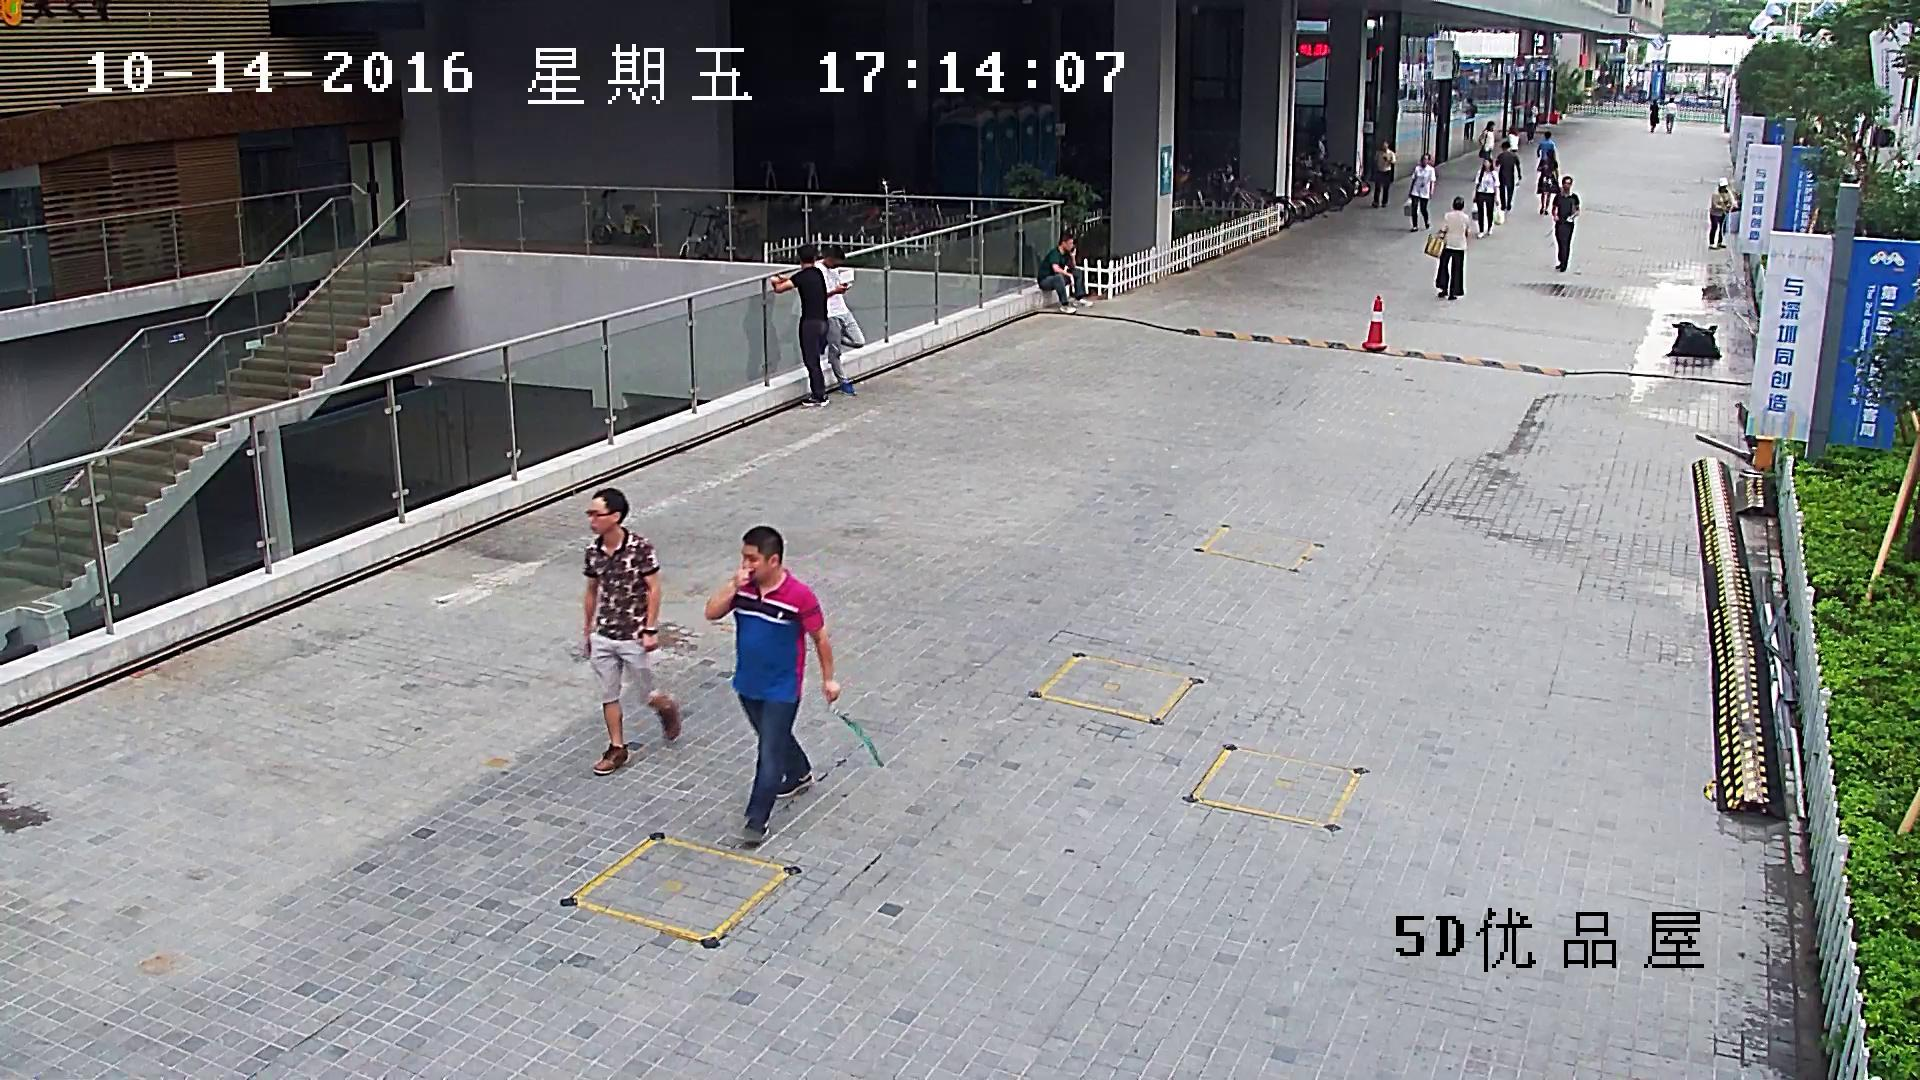person: (703, 526, 842, 845), (582, 486, 679, 775), (770, 242, 830, 406), (815, 247, 865, 394), (1423, 197, 1471, 300), (1037, 233, 1095, 313), (1552, 175, 1580, 271), (1402, 153, 1435, 231), (1473, 158, 1505, 238), (1707, 177, 1732, 250), (1371, 138, 1396, 207), (1495, 142, 1521, 210), (1537, 149, 1559, 215), (1506, 125, 1521, 183), (1479, 120, 1495, 158), (1464, 98, 1477, 140), (1526, 99, 1538, 143), (1537, 131, 1555, 158), (1665, 97, 1676, 133), (1649, 99, 1659, 132), (1317, 133, 1328, 160)
